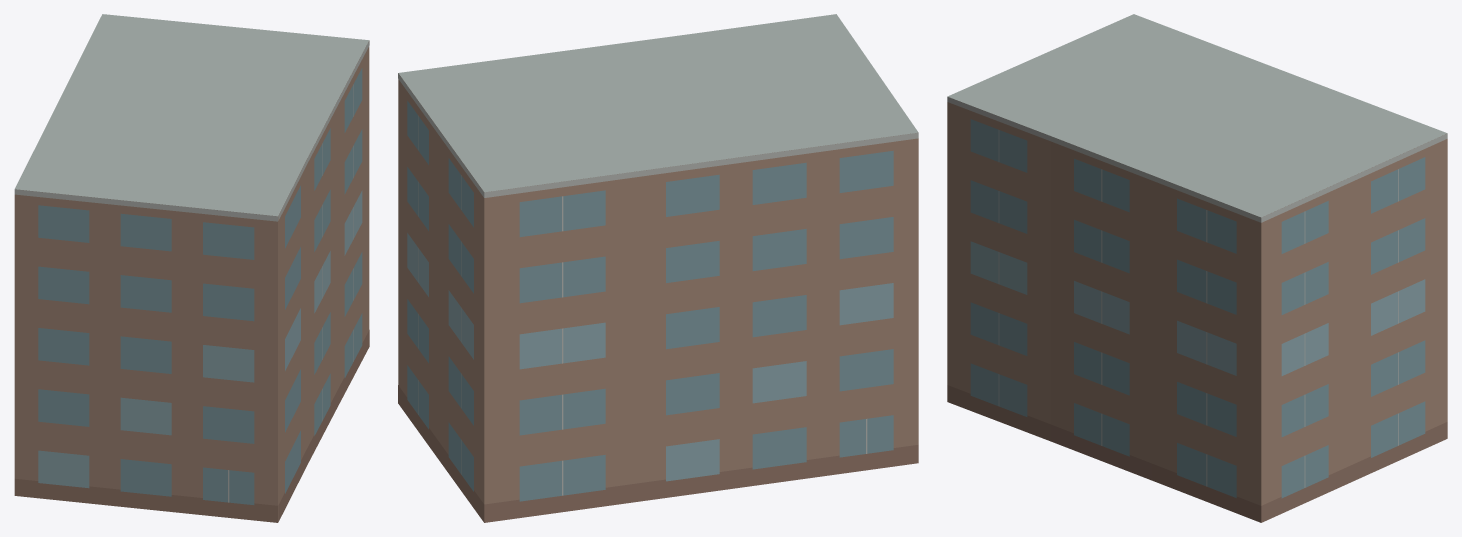
Rendered from survey-upis-32662450.glb.
The picture shows the model from 3 angles, left to right: view 1: azimuth 30°, elevation 25°; view 2: azimuth 150°, elevation 25°; view 3: azimuth 270°, elevation 25°; orthographic projection. The views are drawn at different scales.
Parts seen in each view (by area): view 1: survey-upis-32662450.tmp; view 2: survey-upis-32662450.tmp; view 3: survey-upis-32662450.tmp.
Part boxes in pixels (<box>): survey-upis-32662450.tmp: <box>14,14,369,522</box>; survey-upis-32662450.tmp: <box>398,14,918,522</box>; survey-upis-32662450.tmp: <box>947,14,1447,522</box>.
Bounding box in the file's own units: 20.02 × 14 × 20.8.
